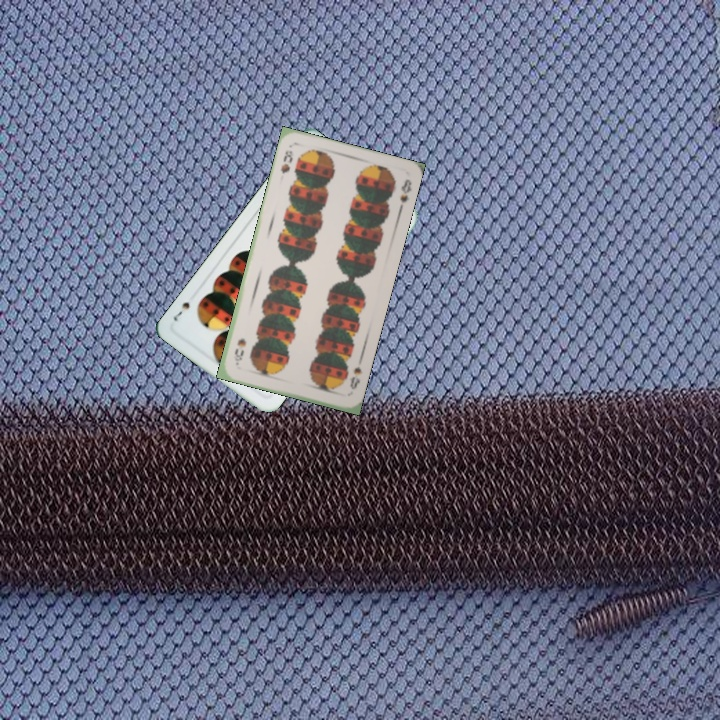S8: (346, 362, 365, 392), (277, 146, 296, 176)
